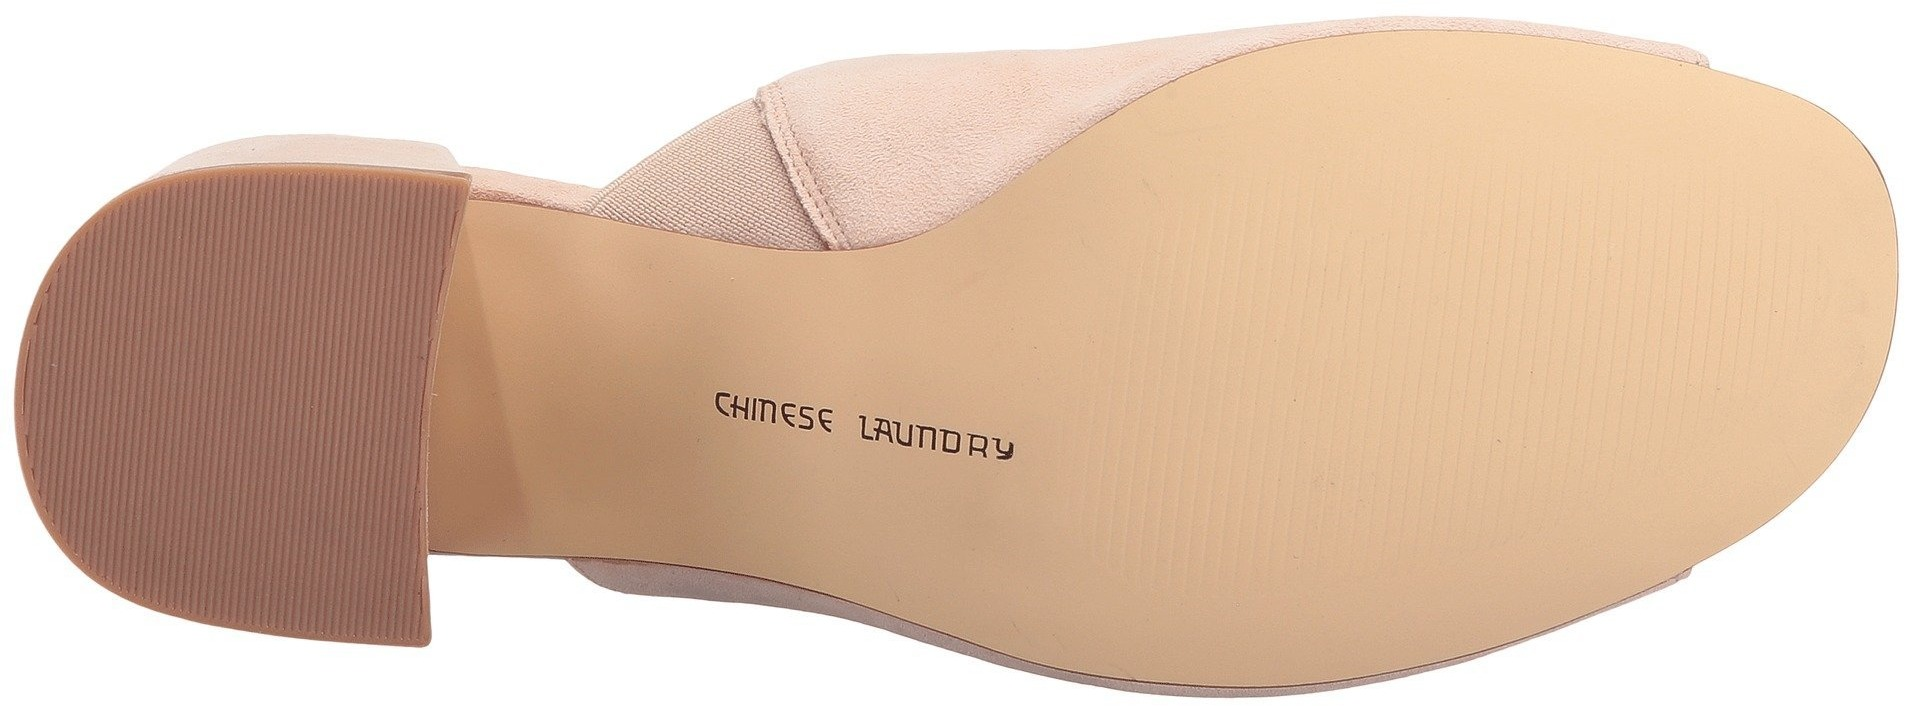other: (1091, 279, 1334, 536), (1364, 194, 1602, 450), (132, 211, 381, 436), (217, 445, 392, 629), (1606, 228, 1762, 402)
